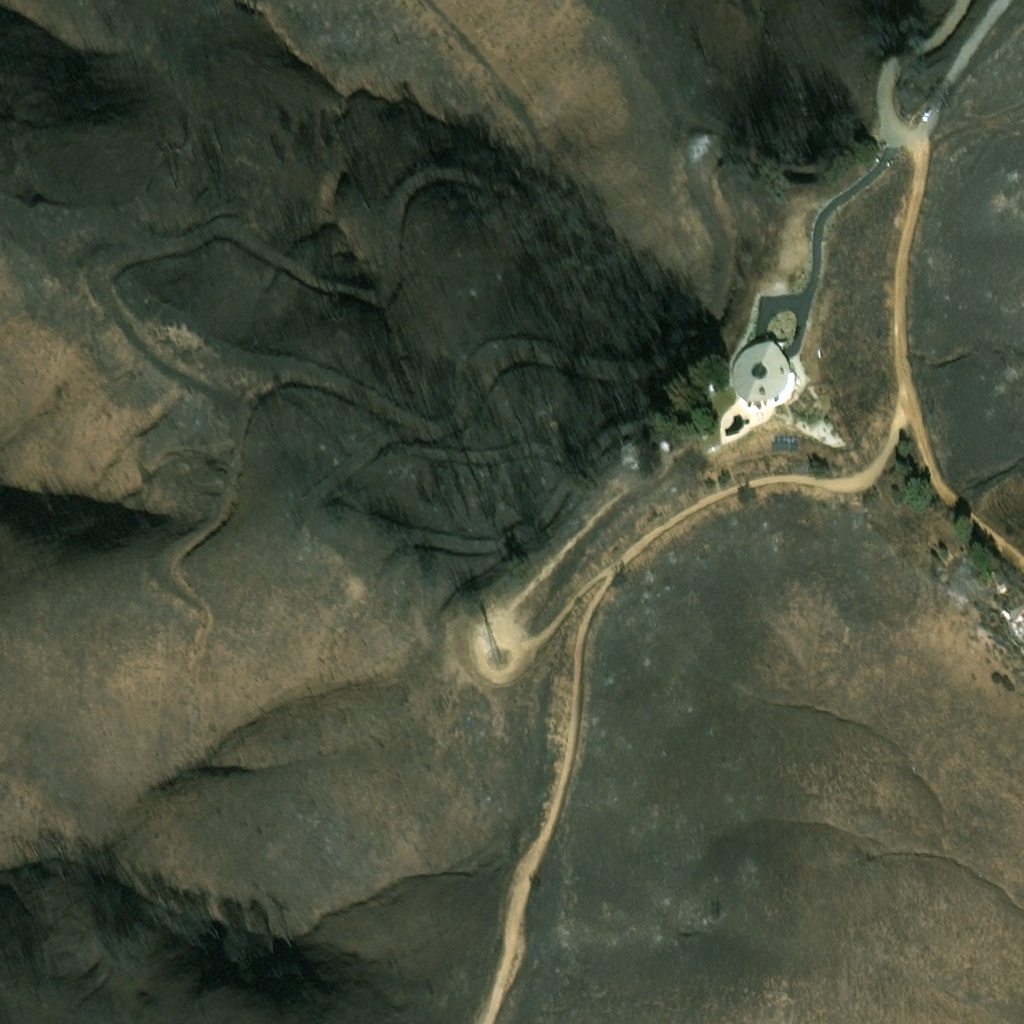0 no-damage: (733, 347, 791, 408)
3 destroyed: (1004, 611, 1023, 647), (627, 451, 644, 468)
